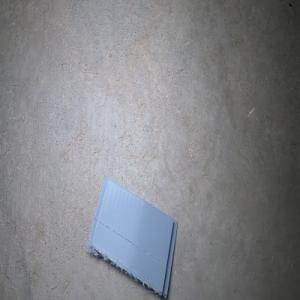PlasticPart: (85, 174, 178, 299)
